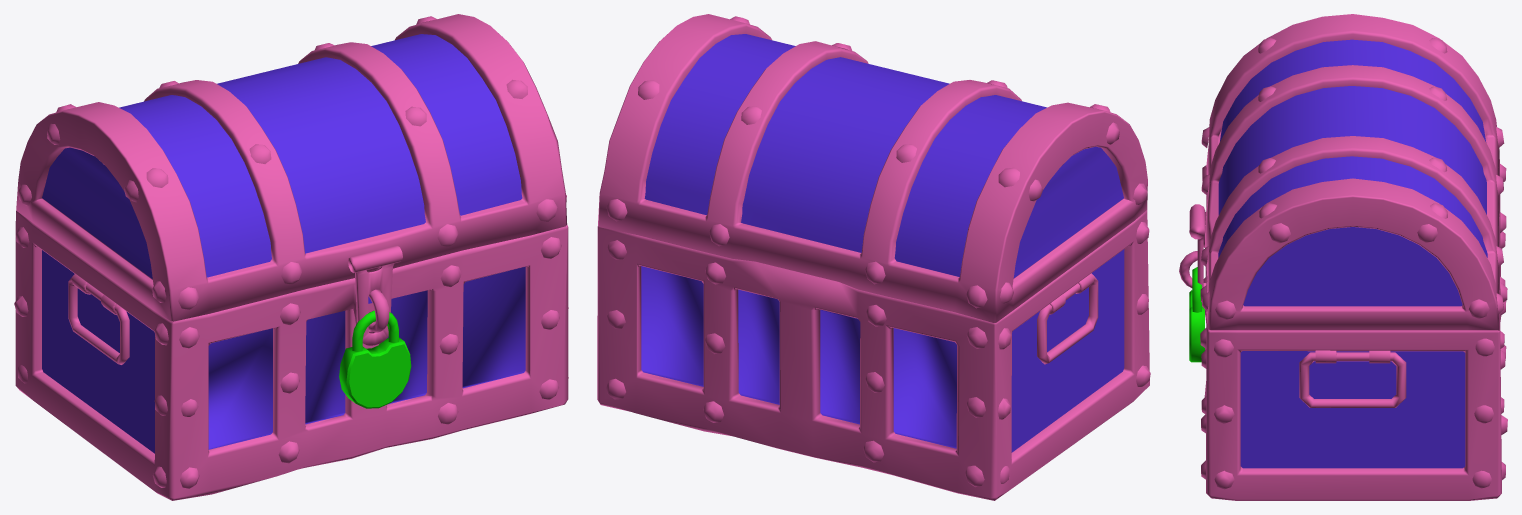
The model's file is Chest.fbx.
3 renders of one model, left to right at view 1: azimuth 30°, elevation 25°; view 2: azimuth 150°, elevation 25°; view 3: azimuth 270°, elevation 25°, orthographic. The views are drawn at different scales.
Visible parts, largest first — view 1: Chest_Door, Chest, Lock; view 2: Chest_Door, Chest; view 3: Chest_Door, Chest, Lock.
Part boxes in pixels (x1=…): Chest_Door: x1=16, y1=14, x2=567, y2=345; Chest: x1=14, y1=211, x2=568, y2=500; Lock: x1=339, y1=310, x2=411, y2=408; Chest_Door: x1=598, y1=14, x2=1147, y2=322; Chest: x1=597, y1=210, x2=1150, y2=500; Chest_Door: x1=1189, y1=14, x2=1504, y2=330; Chest: x1=1179, y1=149, x2=1507, y2=500; Lock: x1=1189, y1=267, x2=1204, y2=362.
Bounding box in the file's own units: 0.9995 × 0.7388 × 0.7593.
